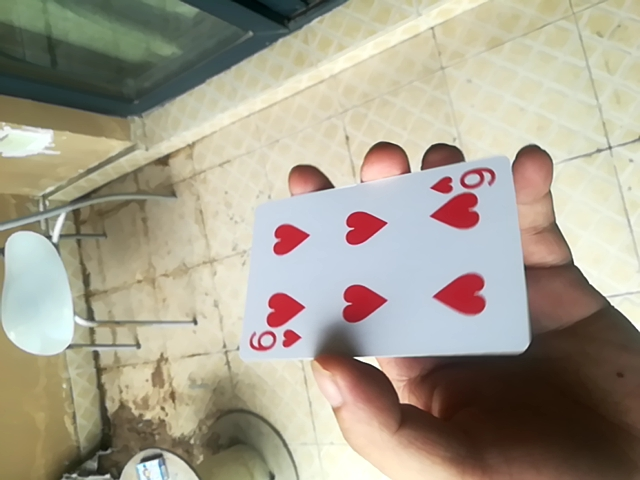hx 6: (239, 154, 531, 358)
